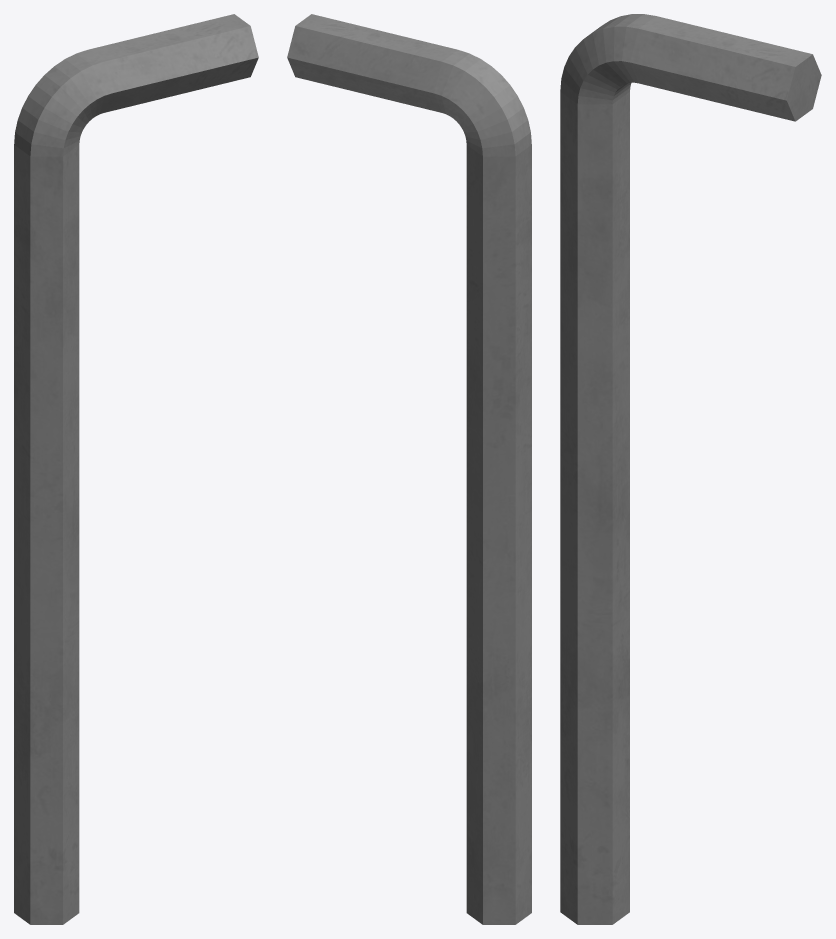
The model's file is gear_hex_key.gltf.
3 renders of one model, left to right at view 1: azimuth 30°, elevation 25°; view 2: azimuth 150°, elevation 25°; view 3: azimuth 330°, elevation 25°, orthographic. The views are drawn at different scales.
Visible parts, largest first — view 1: Object_2; view 2: Object_2; view 3: Object_2.
Boxes of the visible parts, x1,y1,x2,y2 form: Object_2: (14, 14, 258, 924); Object_2: (287, 14, 531, 924); Object_2: (560, 14, 821, 924).
Bounding box in the file's own units: 28.58 × 105 × 7.33.
1 material, 1 textured.
